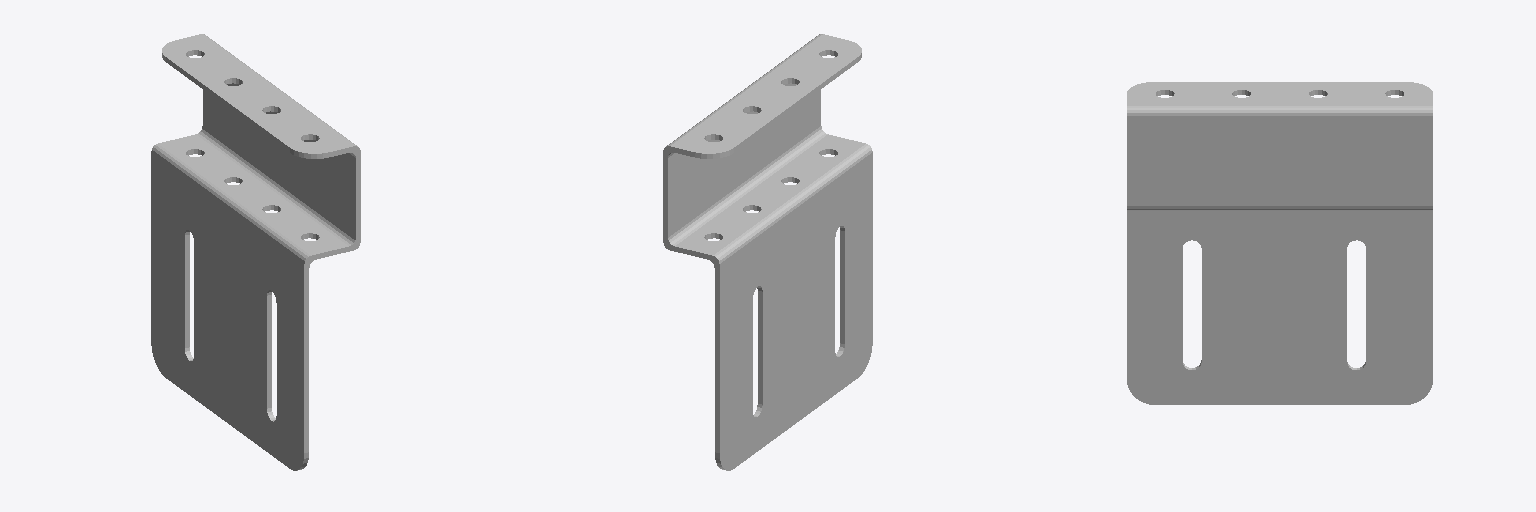
Rendered from uchwyt.obj.
3 views of the same model, side by side, from view 1: azimuth 30°, elevation 25°; view 2: azimuth 150°, elevation 25°; view 3: azimuth 270°, elevation 25° (orthographic).
Visible parts, largest first — view 1: Bryła64; view 2: Bryła64; view 3: Bryła64.
Part boxes in pixels (x1,y1,x2,y2): Bryła64: (151, 34, 360, 470); Bryła64: (663, 34, 872, 470); Bryła64: (1127, 82, 1432, 404).
Size of the model in its own units: 34 by 185 by 160.